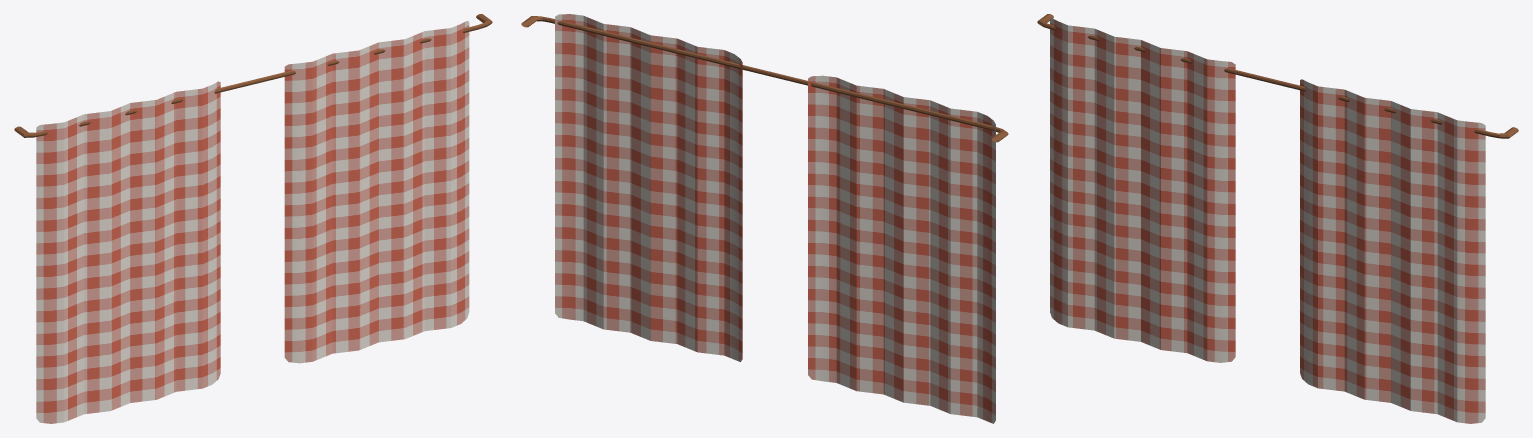
Rendered from curtains_b.glb.
3 renders of one model, left to right at view 1: azimuth 30°, elevation 25°; view 2: azimuth 150°, elevation 25°; view 3: azimuth 330°, elevation 25°, orthographic.
Visible parts, largest first — view 1: body; view 2: body; view 3: body.
Part boxes in pixels (x1=…): body: x1=14, y1=14, x2=492, y2=423; body: x1=521, y1=14, x2=1008, y2=423; body: x1=1037, y1=14, x2=1518, y2=423.
Bounding box in the file's own units: 1.9 × 1.16 × 0.1.
2 materials, 1 textured.
